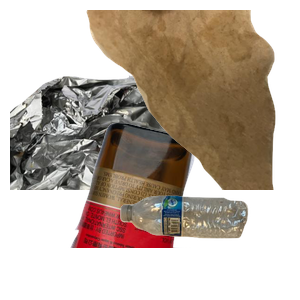glass: (68, 120, 255, 300)
metal: (10, 73, 212, 253)
plastic: (118, 193, 300, 300)
trash: (84, 10, 300, 190)
